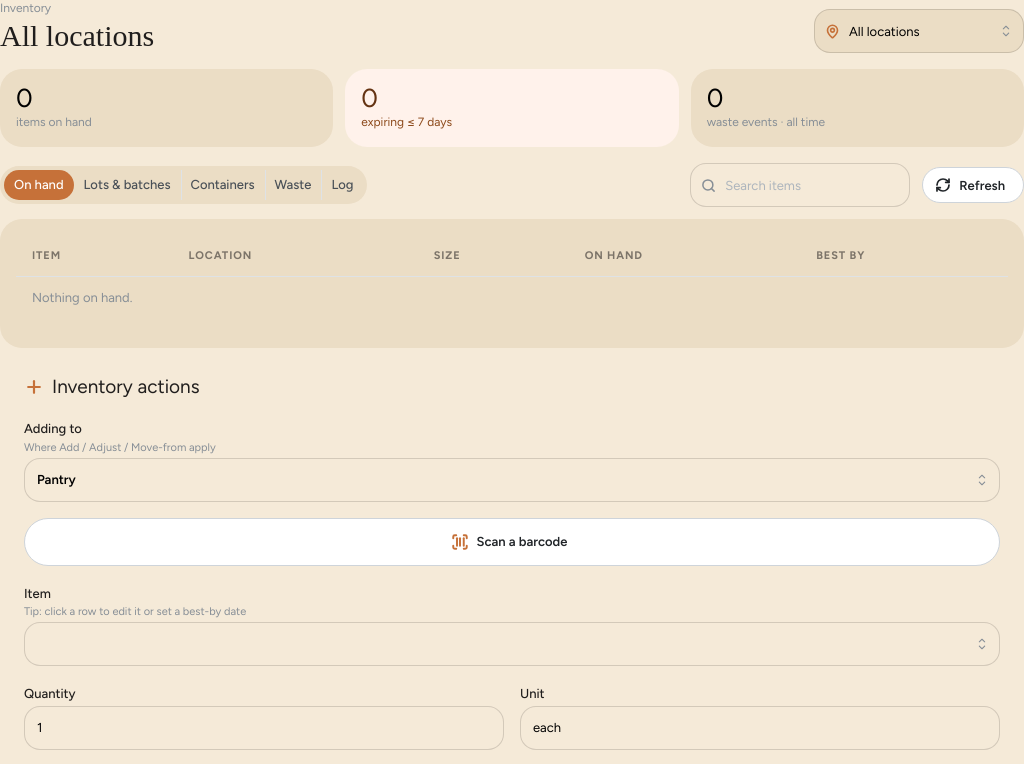
Test: InventoryPage - Log table › disables reversal for a reversal entry itself
The image size is (1024, 764).
Click the text "Log". click: (342, 184)
box: [331,177,353,192]
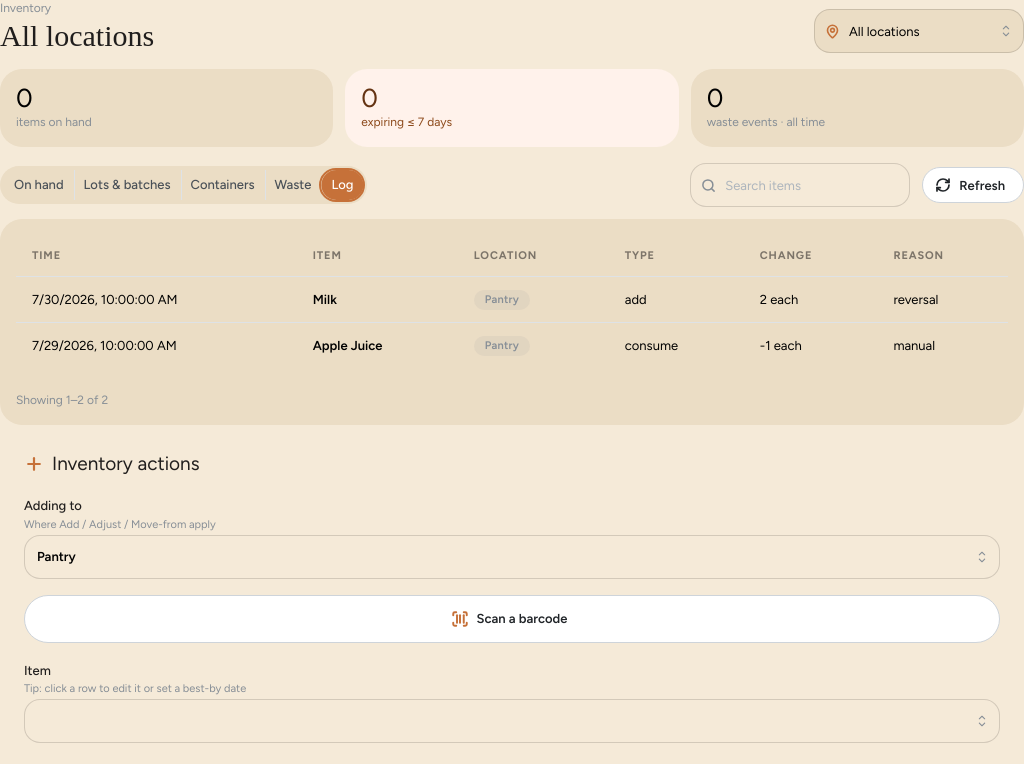
Expected: the text "Milk" is shown
Click the text "Milk". click: (325, 299)
box: [297,277,458,323]
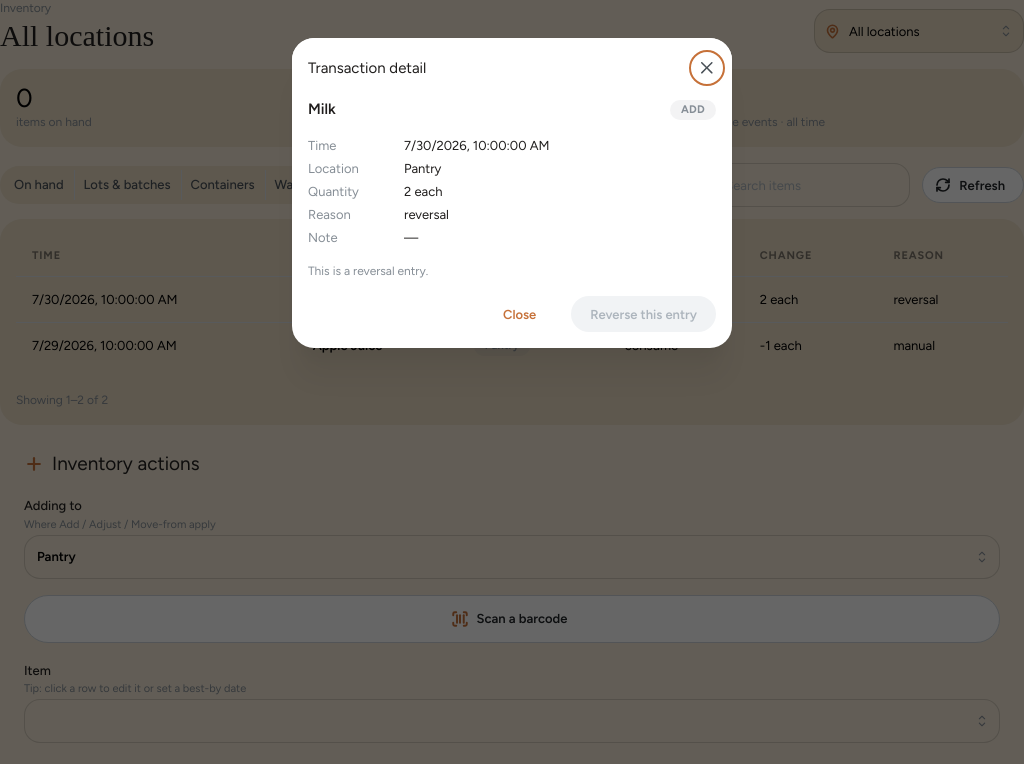
Expected: the heading "Transaction detail" is shown, [308,61,426,76]
Expected: the text "This is a reversal entry." is shown, [308,265,428,279]
Expected: the button "Reverse this entry" is disabled, [571,297,716,333]
